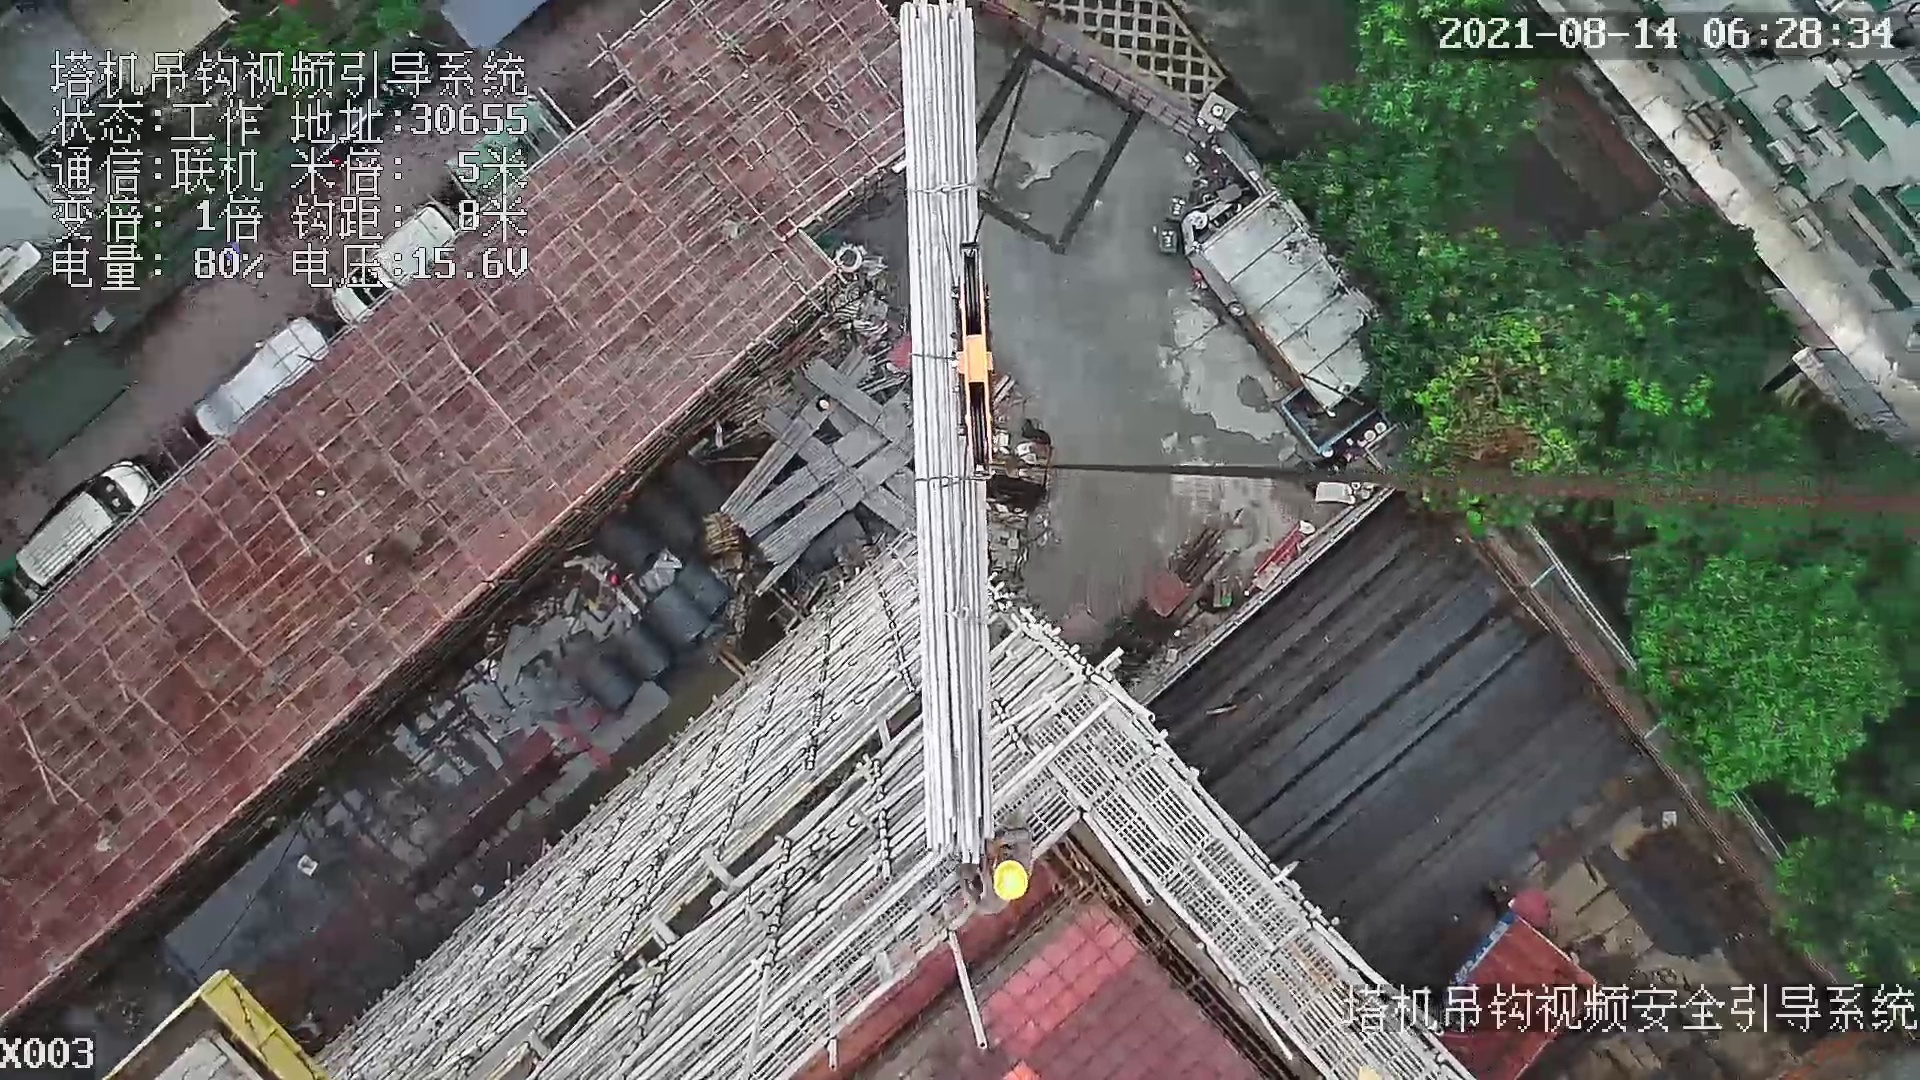helmet: (988, 854, 1033, 907)
hook: (956, 241, 998, 483)
person: (960, 833, 1040, 915)
